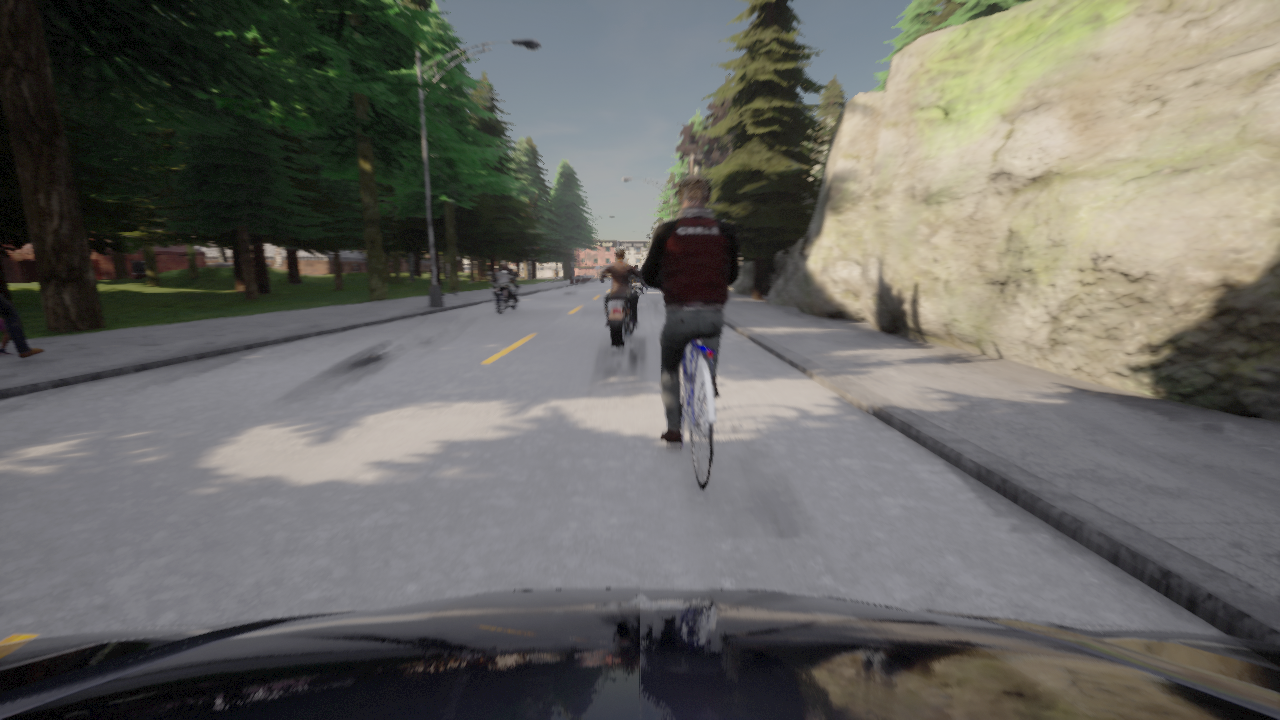cyclist: (0, 588, 1279, 719), (665, 340, 716, 490), (601, 268, 640, 347), (486, 271, 520, 314), (631, 278, 642, 298), (599, 274, 604, 283)
